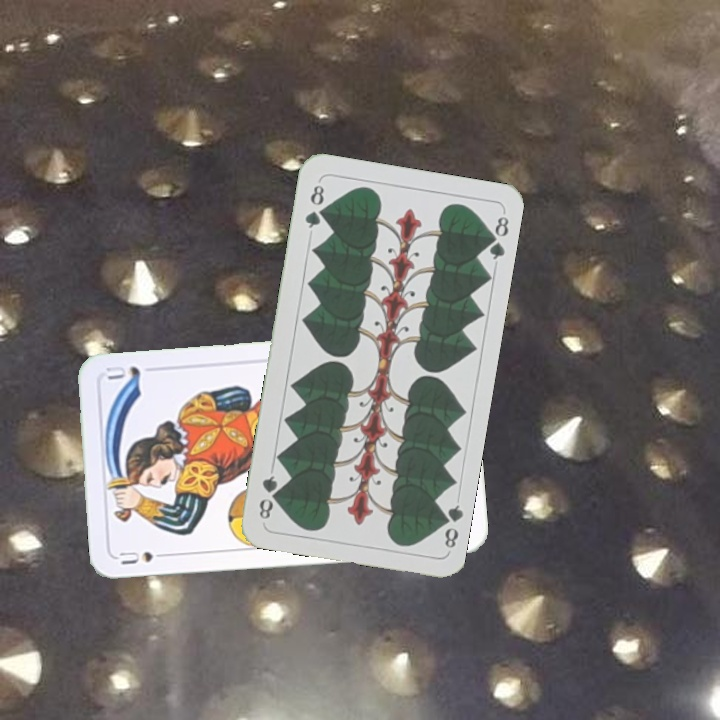G8: (434, 500, 465, 551), (300, 180, 327, 231)
SU: (115, 546, 173, 567)
